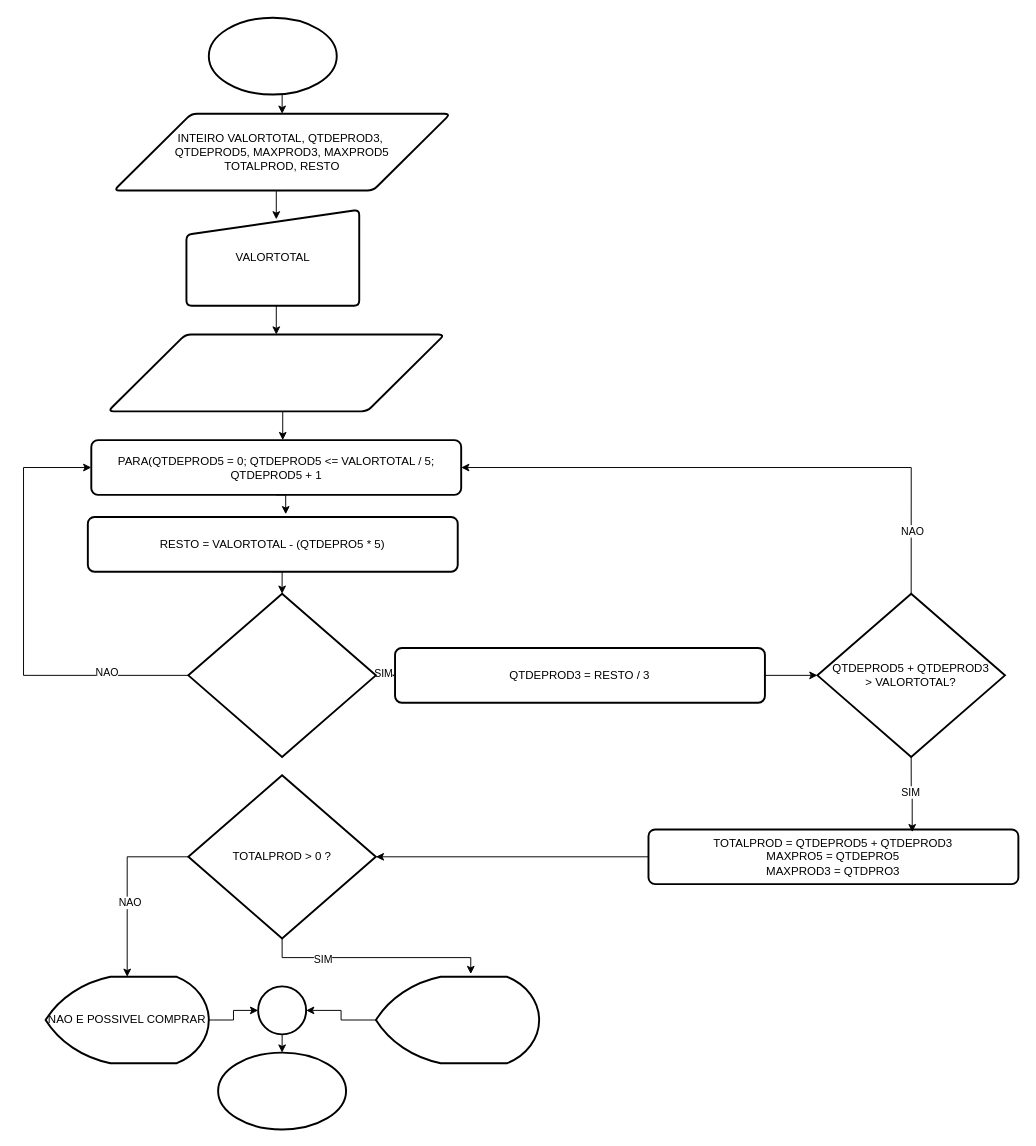
This 1036x1146 diagram has some shape labels left out. Each missing label, with the centre of its shape:
FIM: (x=282, y=1090)
INICIO: (x=272, y=55)
MAXPRD5 MAXPROD3: (x=457, y=1019)
RESTO % 3 == 0 ?: (x=281, y=674)
VALORTOTAL, QTDEPROD3, QTDEPROD5, MAXPROD3, MAXPROD5 = 0: (x=276, y=372)
